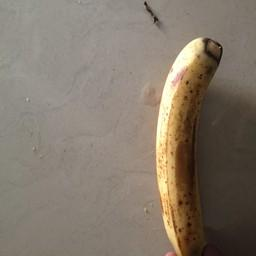Banana Ripe: (147, 24, 240, 255)
